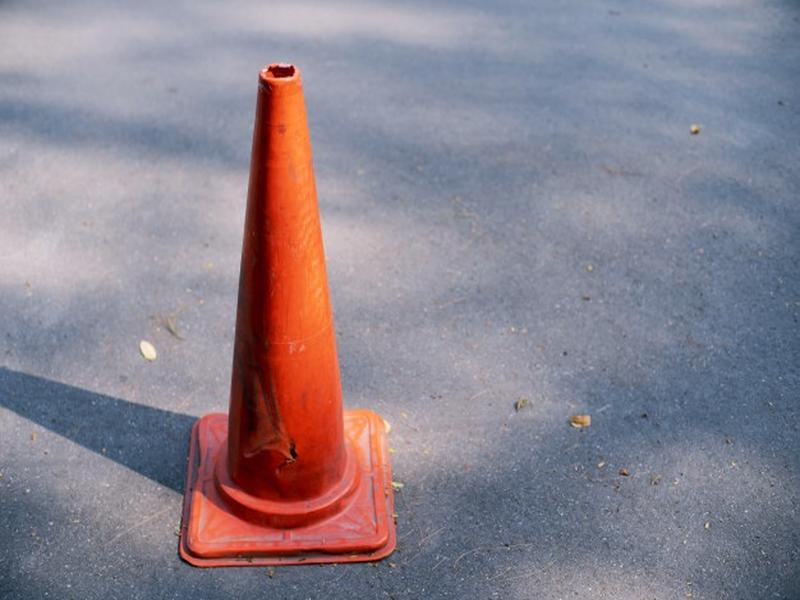Cone: (176, 61, 400, 568)
